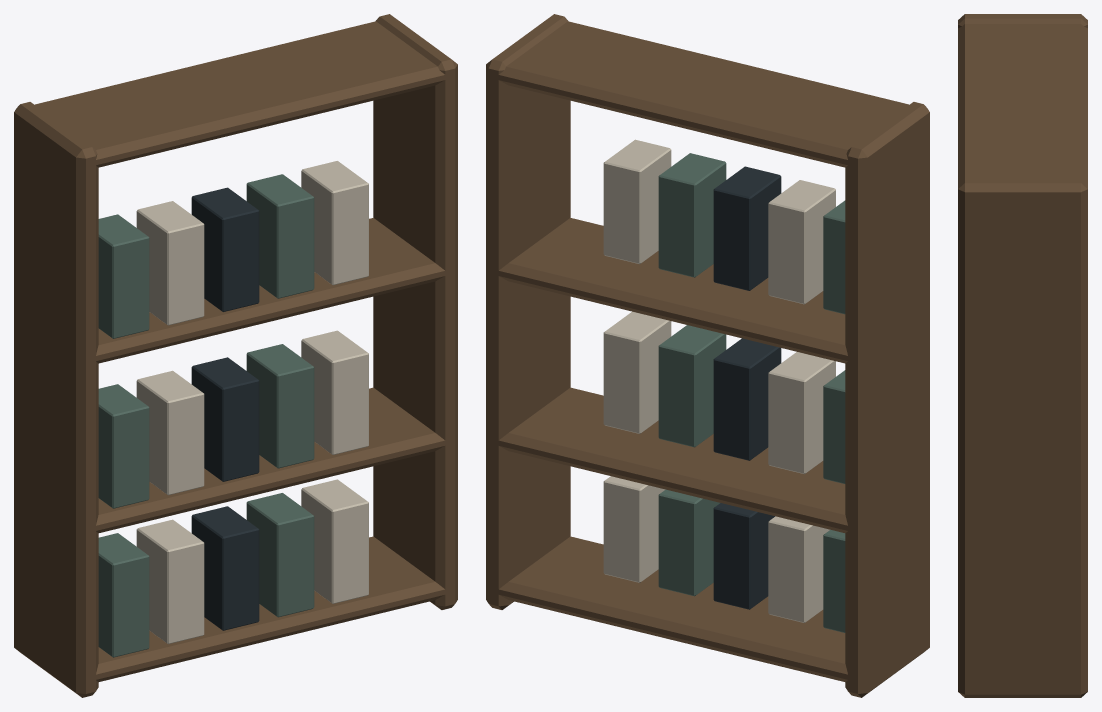
Rendered from shelf-D2JoL84g.glb.
3 views of the same model, side by side, from view 1: azimuth 30°, elevation 25°; view 2: azimuth 150°, elevation 25°; view 3: azimuth 270°, elevation 25° (orthographic). The views are drawn at different scales.
Parts seen in each view (by area): view 1: shelf upright; view 2: shelf upright; view 3: shelf upright.
Part boxes in pixels (left/top/right/bottom): shelf upright: left=14, top=14, right=457, bottom=697; shelf upright: left=486, top=14, right=929, bottom=697; shelf upright: left=958, top=14, right=1087, bottom=697.
Size of the model in its own units: 1.53 by 2.1 by 0.48.
